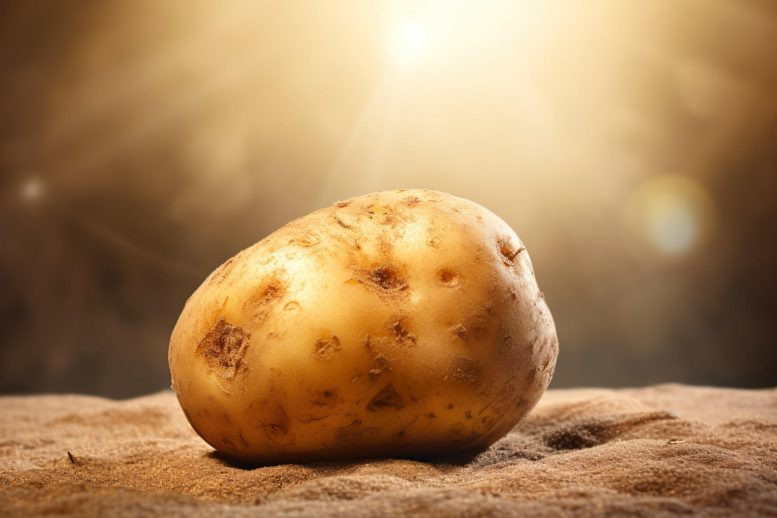potato: (166, 184, 562, 468)
